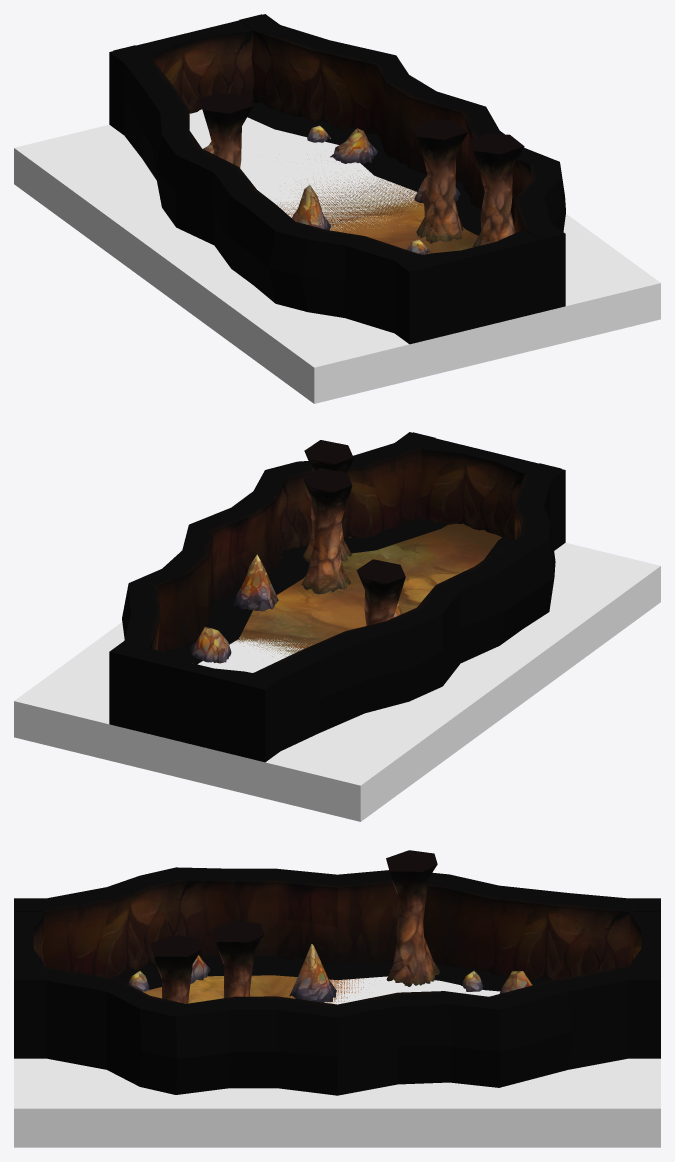
The model's file is Dungeon_demo_Road_005.fbx.
The picture shows the model from 3 angles, top to bottom: view 1: azimuth 30°, elevation 25°; view 2: azimuth 150°, elevation 25°; view 3: azimuth 270°, elevation 25°; orthographic projection. The views are drawn at different scales.
Parts seen in each view (by area): view 1: Cube, Dan1, Dun_011_Door_002 (×2), Dungeon_011_Object_010 (×3), Dan2, Dan1_shadow, Dungeon_011_Object_012, Dungeon_011_Object_011; view 2: Dan1, Cube, Dun_011_Door_002 (×2), Dan2, Dungeon_011_Object_010 (×3), Dan1_shadow, Dungeon_011_Object_011, Dungeon_011_Object_012; view 3: Dan1, Cube, Dungeon_011_Object_010 (×3), Dun_011_Door_002 (×2), Dan1_shadow, Dan2, Dungeon_011_Object_011.
Boxes of the visible parts, x1,y1,x2,y2 form: Cube: (14,109,660,403); Dan1: (109,14,565,344); Dun_011_Door_002 (×2): (113,14,561,337); Dungeon_011_Object_010 (×3): (198,93,524,247); Dan2: (279,154,478,253); Dan1_shadow: (247,102,481,235); Dungeon_011_Object_012: (330,128,377,163); Dungeon_011_Object_011: (292,185,331,230); Dan1: (109,432,565,762); Cube: (14,542,660,821); Dun_011_Door_002 (×2): (113,432,561,755); Dan2: (235,523,501,656); Dungeon_011_Object_010 (×3): (301,440,405,625); Dan1_shadow: (163,518,512,664); Dungeon_011_Object_011: (233,554,278,611); Dungeon_011_Object_012: (190,627,231,663); Dan1: (14,867,660,1095); Cube: (14,976,660,1147); Dungeon_011_Object_010 (×3): (150,850,440,1003); Dun_011_Door_002 (×2): (14,899,660,977); Dan1_shadow: (114,955,550,991); Dan2: (142,975,366,1003); Dungeon_011_Object_011: (289,944,336,1002).
Bounding box in the file's own units: 10 × 3.94 × 15.
